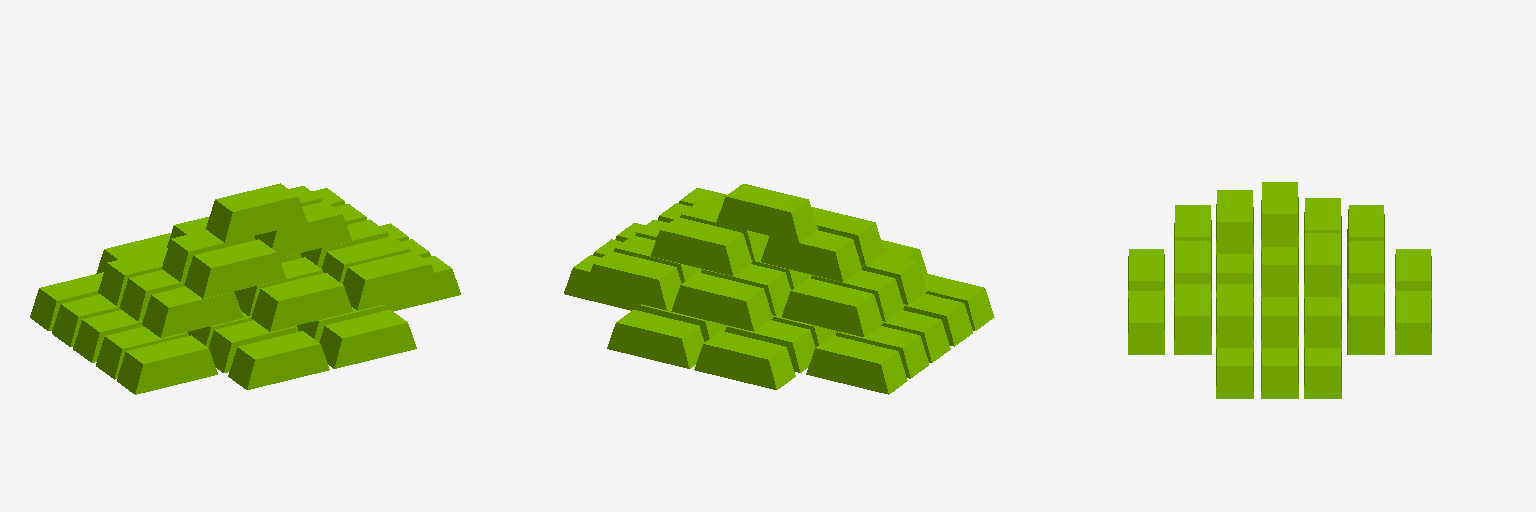
The model's file is golden.obj.
3 renders of one model, left to right at view 1: azimuth 30°, elevation 25°; view 2: azimuth 150°, elevation 25°; view 3: azimuth 270°, elevation 25°, orthographic.
Visible parts, largest first — view 1: Cube.026, Cube.039, Cube.009, Cube.035, Cube.043, Cube.042, Cube.037, Cube.024, Cube.008, Cube.029, Cube.036, Cube.023 (+11 smaller); view 2: Cube.009, Cube.029, Cube.015, Cube.041, Cube.018, Cube.033, Cube.040, Cube.031, Cube.007, Cube.026, Cube.030, Cube.035 (+13 smaller); view 3: Cube.009, Cube.026, Cube.037, Cube.018, Cube.023, Cube.031, Cube.040, Cube.042, Cube.001, Cube.011, Cube.020, Cube.004 (+10 smaller).
Part boxes in pixels (left/top/right/bottom): Cube.026: left=184, top=239, right=285, bottom=298; Cube.039: left=251, top=273, right=352, bottom=331; Cube.009: left=206, top=183, right=307, bottom=242; Cube.035: left=117, top=335, right=217, bottom=394; Cube.043: left=228, top=331, right=329, bottom=389; Cube.042: left=319, top=310, right=416, bottom=368; Cube.037: left=343, top=251, right=439, bottom=310; Cube.024: left=142, top=286, right=243, bottom=337; Cube.008: left=255, top=201, right=351, bottom=257; Cube.029: left=30, top=272, right=103, bottom=330; Cube.036: left=209, top=320, right=298, bottom=372; Cube.023: left=322, top=236, right=410, bottom=283; Cube.009: left=716, top=184, right=817, bottom=242; Cube.029: left=806, top=335, right=907, bottom=394; Cube.015: left=782, top=278, right=882, bottom=336; Cube.041: left=694, top=331, right=795, bottom=389; Cube.018: left=651, top=217, right=751, bottom=276; Cube.033: left=671, top=272, right=772, bottom=331; Cube.040: left=607, top=310, right=704, bottom=368; Cube.031: left=584, top=251, right=681, bottom=310; Cube.007: left=761, top=230, right=861, bottom=281; Cube.026: left=811, top=207, right=884, bottom=265; Cube.030: left=725, top=320, right=815, bottom=372; Cube.035: left=921, top=272, right=994, bottom=330; Cube.009: left=1261, top=182, right=1298, bottom=246; Cube.026: left=1216, top=190, right=1253, bottom=253; Cube.037: left=1174, top=284, right=1211, bottom=347; Cube.018: left=1304, top=233, right=1341, bottom=296; Cube.023: left=1216, top=284, right=1253, bottom=347; Cube.031: left=1347, top=284, right=1384, bottom=347; Cube.040: left=1395, top=291, right=1431, bottom=354; Cube.042: left=1128, top=291, right=1164, bottom=354; Cube.001: left=1261, top=348, right=1298, bottom=398; Cube.011: left=1304, top=348, right=1341, bottom=398; Cube.020: left=1216, top=348, right=1253, bottom=398; Cube.004: left=1261, top=297, right=1298, bottom=347.
Size of the model in its own units: 22.68 by 7.23 by 17.23.